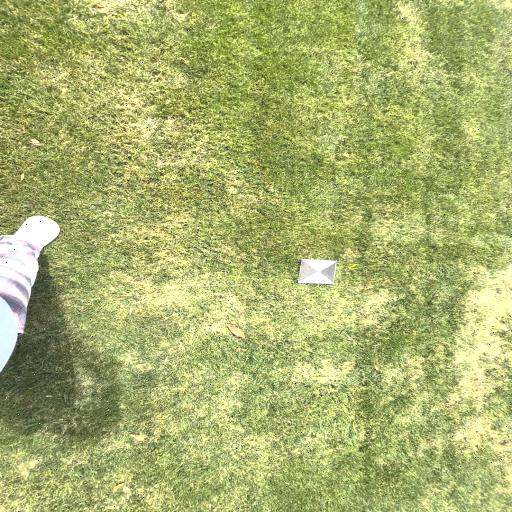target: (298, 260, 335, 284)
